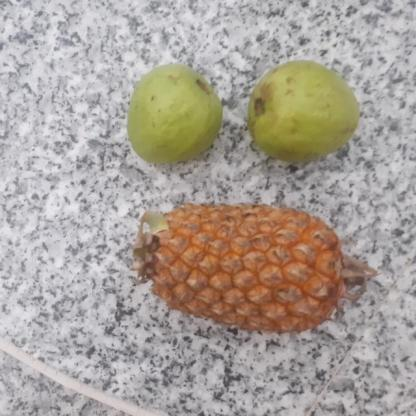guava: (244, 62, 359, 160), (123, 66, 223, 158)
pineapple: (128, 203, 369, 339)
